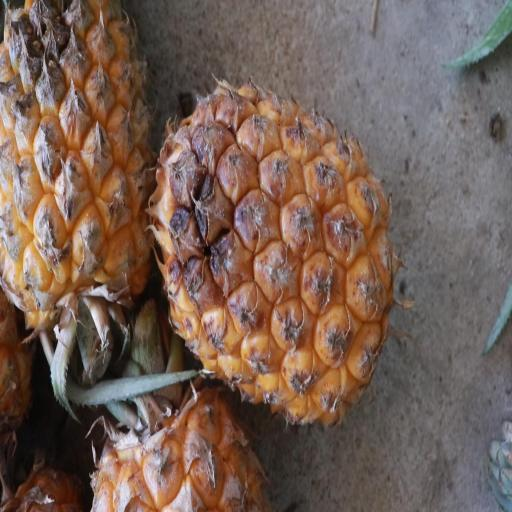Pineapple - v8 v1: (150, 76, 404, 431), (0, 2, 157, 395)
